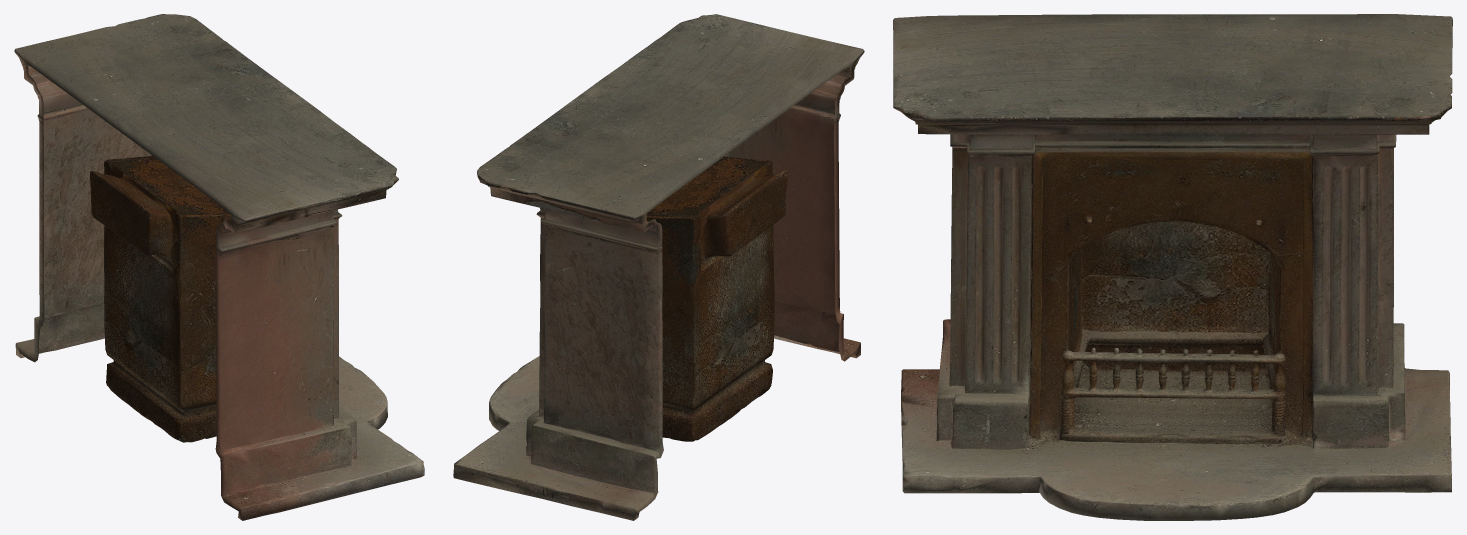
The model's file is fireplace.glb.
The picture shows the model from 3 angles, left to right: view 1: azimuth 30°, elevation 25°; view 2: azimuth 150°, elevation 25°; view 3: azimuth 270°, elevation 25°; orthographic projection. The views are drawn at different scales.
Parts seen in each view (by area): view 1: fireplace_S_Fireplace_ujdjcjxga_lod3_Var1_LOD0; view 2: fireplace_S_Fireplace_ujdjcjxga_lod3_Var1_LOD0; view 3: fireplace_S_Fireplace_ujdjcjxga_lod3_Var1_LOD0.
Boxes of the visible parts, left/top/right/bottom form: fireplace_S_Fireplace_ujdjcjxga_lod3_Var1_LOD0: left=14, top=14, right=424, bottom=520; fireplace_S_Fireplace_ujdjcjxga_lod3_Var1_LOD0: left=453, top=14, right=864, bottom=520; fireplace_S_Fireplace_ujdjcjxga_lod3_Var1_LOD0: left=893, top=14, right=1452, bottom=520.
Size of the model in its own units: 0.8241 by 1.01 by 1.38.
1 material, 1 textured.
